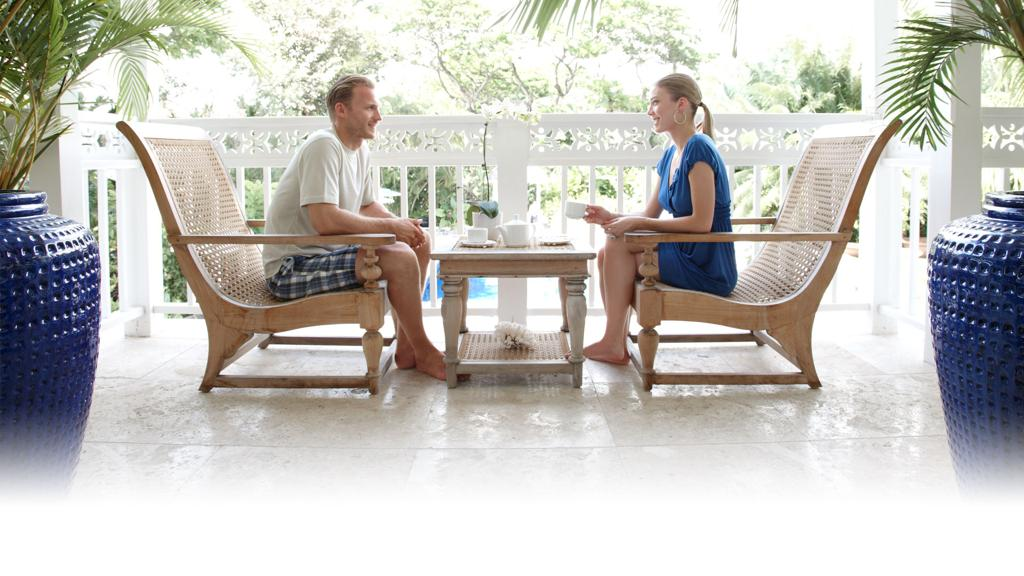face: (351, 85, 381, 138), (646, 83, 676, 131)
